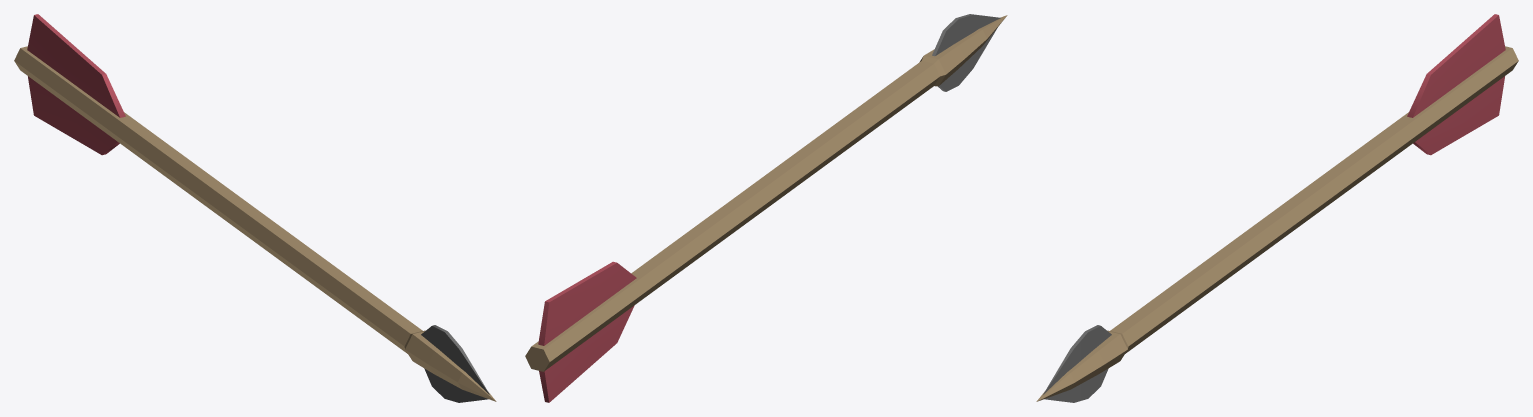
Rendered from bolt.FBX.
The picture shows the model from 3 angles, left to right: view 1: azimuth 30°, elevation 25°; view 2: azimuth 150°, elevation 25°; view 3: azimuth 330°, elevation 25°; orthographic projection.
Parts seen in each view (by area): view 1: bolt; view 2: bolt; view 3: bolt.
Boxes of the visible parts, <box> form: bolt: <box>14,14,496,402</box>; bolt: <box>525,14,1007,402</box>; bolt: <box>1036,14,1518,402</box>.
Bounding box in the file's own units: 0.0167 × 0.0536 × 0.4545.
